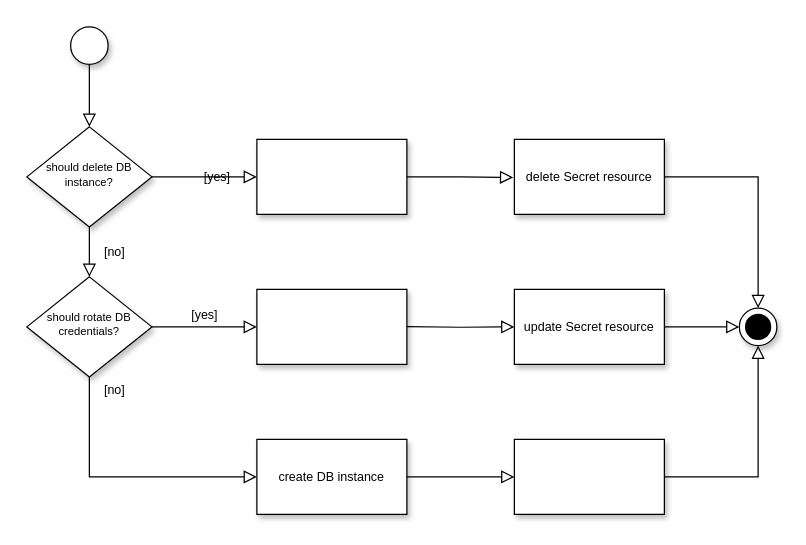
Image size: 806x545. Some labels were removed from this diagram. The centre of each missing label's shape, as x and y in pixels:
create Secret resource: point 590,478
delete DB instance: point 332,178
rotate DB credentials: point 332,328
